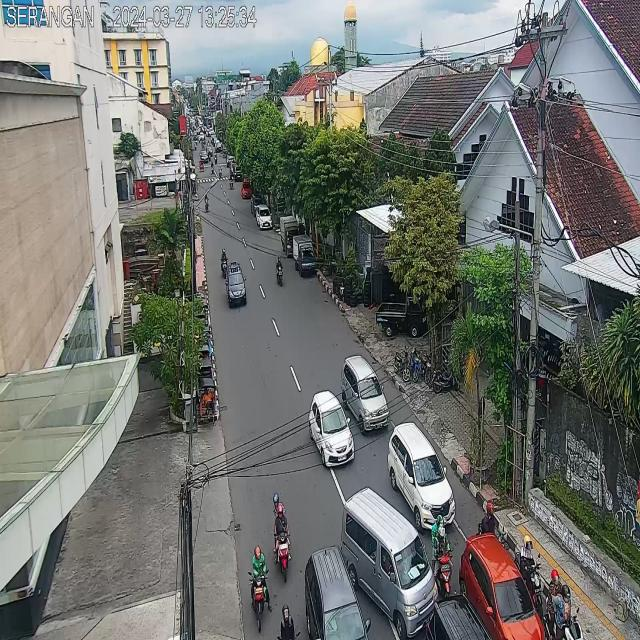car: (342, 487, 439, 638), (461, 533, 545, 640), (388, 421, 455, 530), (304, 545, 368, 640), (342, 354, 389, 434), (308, 390, 354, 466), (425, 595, 490, 640), (226, 262, 247, 308), (257, 204, 272, 229), (251, 194, 264, 217), (241, 181, 252, 199)
motorcycle: (512, 530, 546, 622), (546, 564, 582, 640), (270, 490, 294, 586), (428, 512, 452, 608), (248, 539, 272, 633), (478, 497, 510, 555), (277, 602, 298, 640), (274, 254, 285, 288), (220, 247, 229, 279), (203, 191, 210, 212)
truck: (293, 234, 316, 276), (280, 216, 299, 258)
